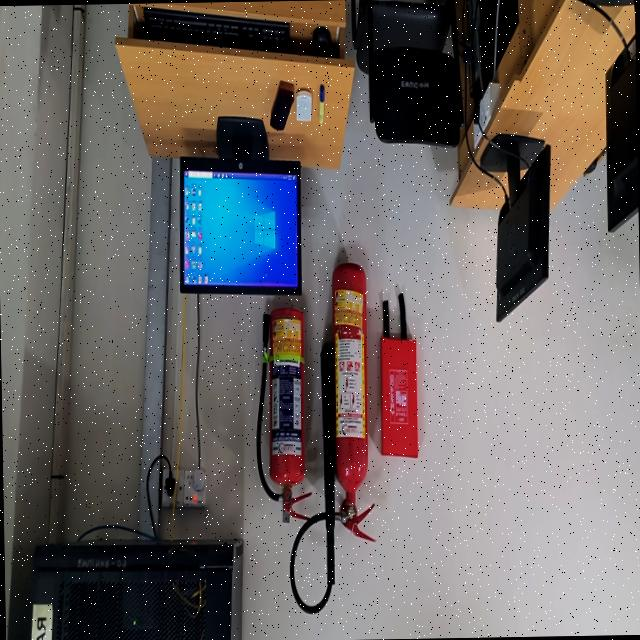Chair: (351, 0, 461, 147)
Cpu: (469, 0, 497, 108), (496, 0, 517, 63)
Fire Extinguisher: (332, 263, 374, 542), (269, 308, 304, 522)
Keyboard: (143, 7, 289, 51)
Monitor: (179, 117, 300, 294), (481, 135, 550, 321), (605, 41, 638, 231)
Mouse: (312, 26, 333, 56), (424, 97, 432, 107)
